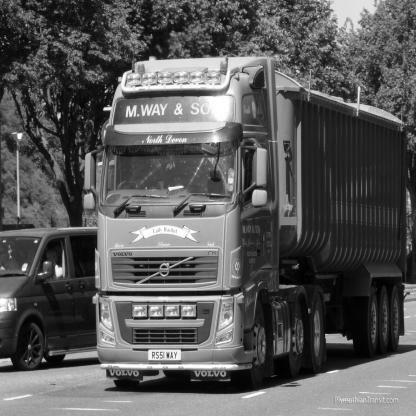truck: (65, 44, 416, 416)
